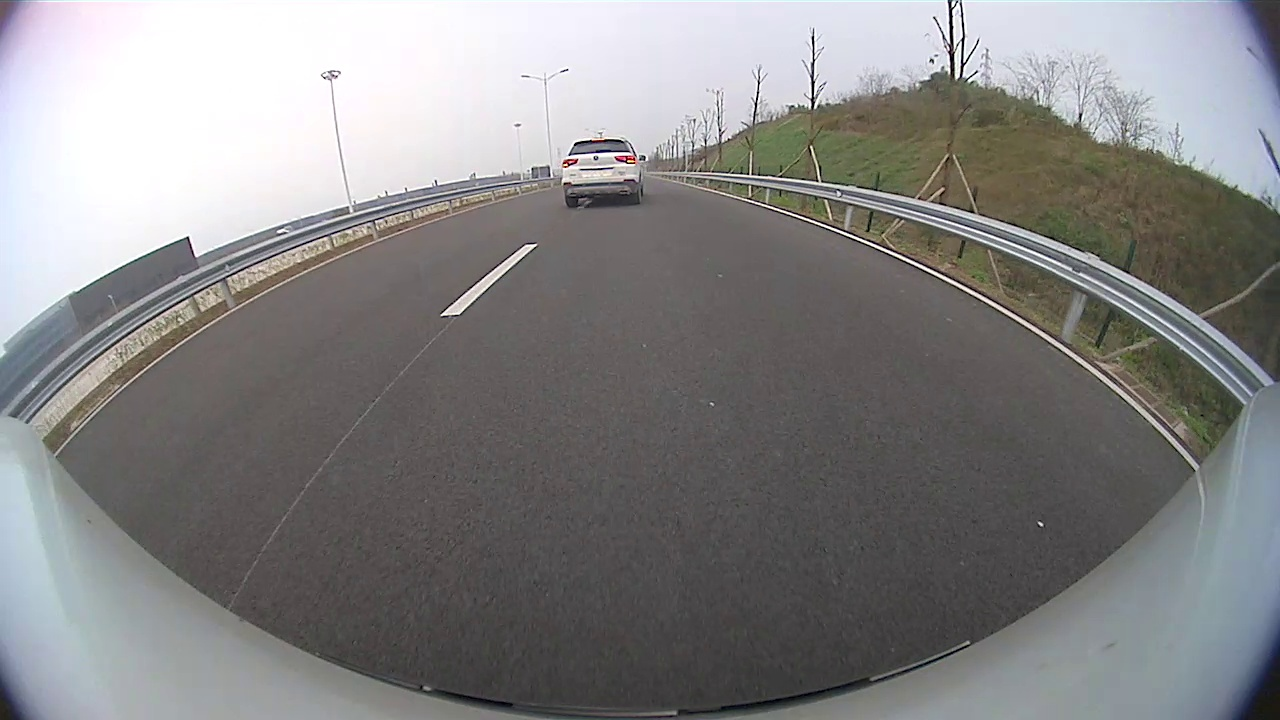car: (560, 136, 646, 213)
